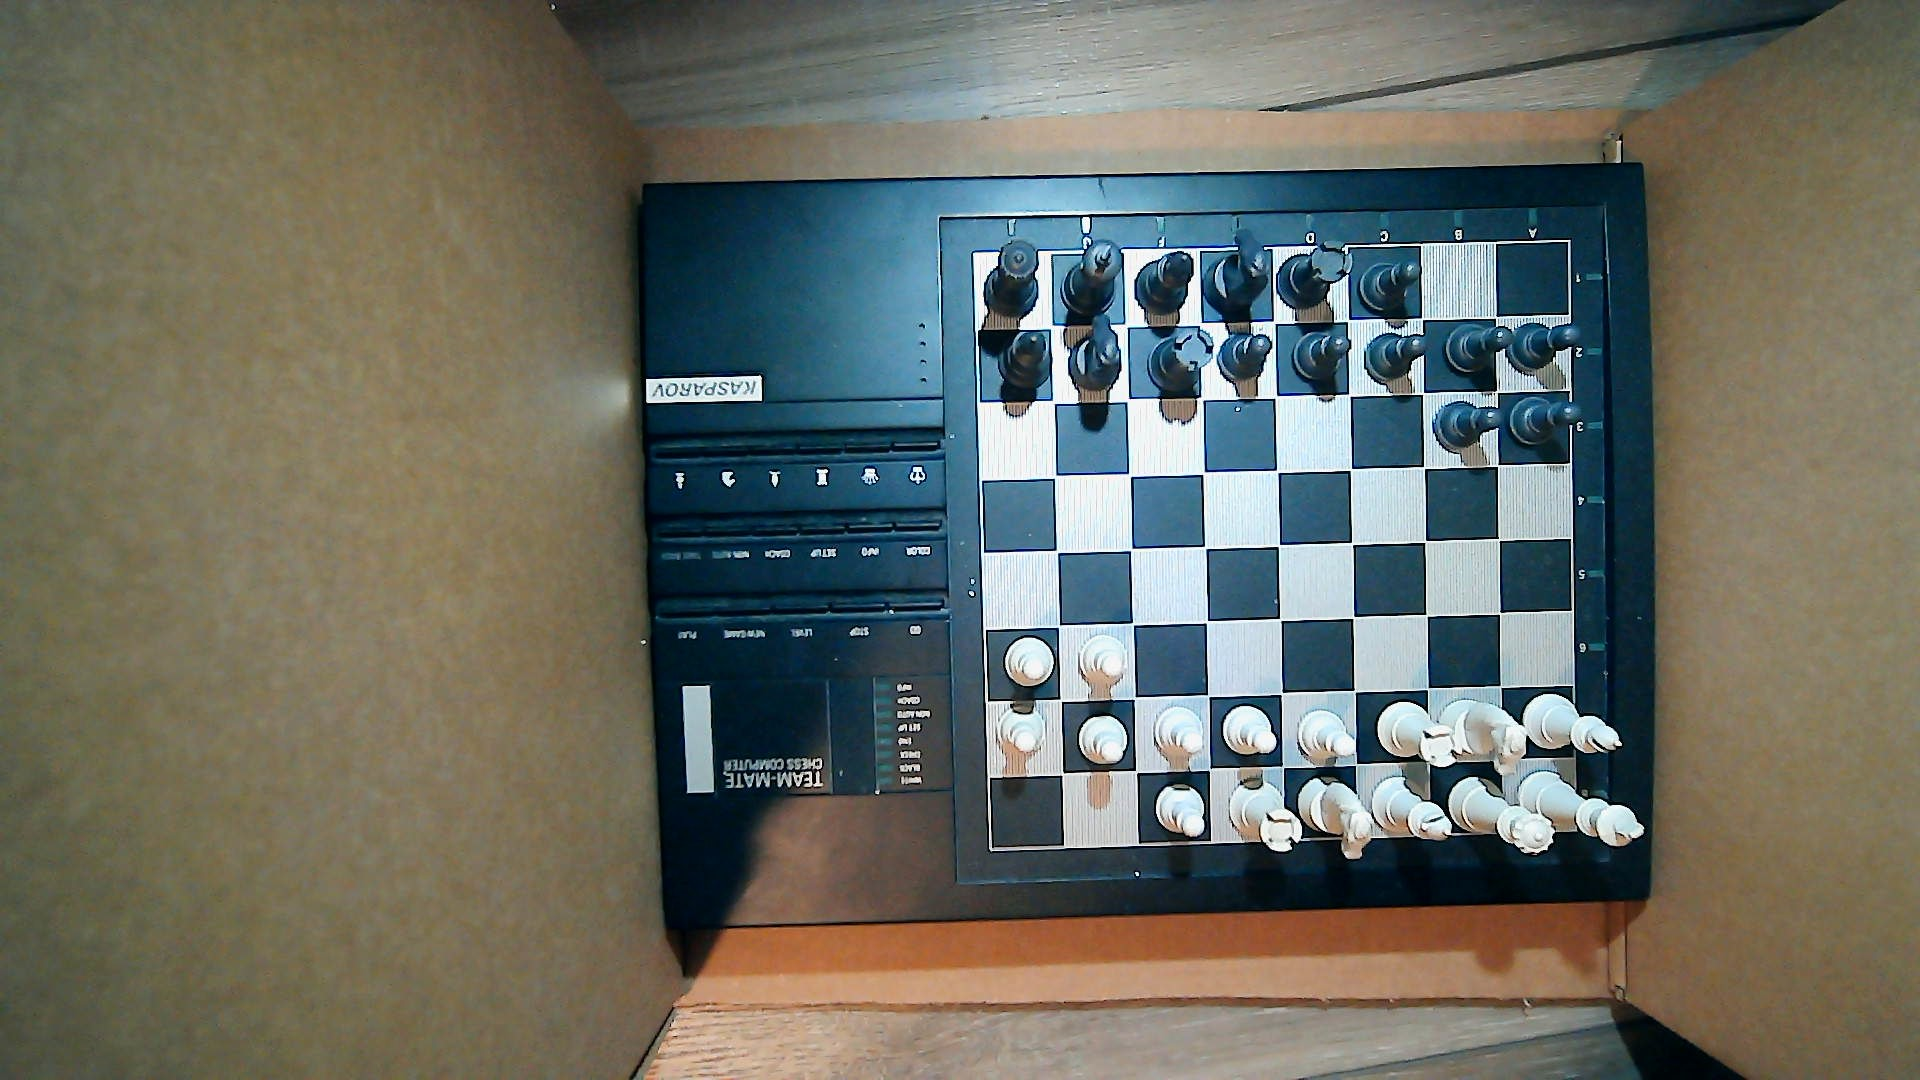bbishop: (996, 327, 1058, 392), (1134, 251, 1196, 313)
bking: (1062, 237, 1122, 314)
bknight: (1203, 229, 1273, 313), (1067, 314, 1124, 392)
bpawn: (1505, 316, 1580, 372), (1443, 320, 1515, 377), (1425, 400, 1501, 452), (1509, 393, 1581, 447), (1357, 256, 1422, 313), (1290, 328, 1356, 381), (1216, 331, 1276, 386), (1364, 332, 1429, 382)
bqueen: (982, 240, 1042, 319)
brook: (1276, 239, 1353, 309), (1149, 326, 1213, 393)
wbishop: (1522, 694, 1622, 756), (1371, 771, 1453, 844)
wking: (1518, 770, 1644, 849)
wknight: (1437, 698, 1528, 779), (1296, 771, 1375, 862)
wpawn: (1294, 709, 1356, 764), (997, 634, 1055, 690), (1153, 781, 1208, 839), (1077, 632, 1130, 691), (1151, 705, 1207, 761), (1221, 703, 1278, 757), (994, 704, 1050, 756), (1075, 715, 1129, 766)
wqueen: (1448, 771, 1556, 856)
wrook: (1375, 699, 1462, 769), (1226, 779, 1302, 855)
